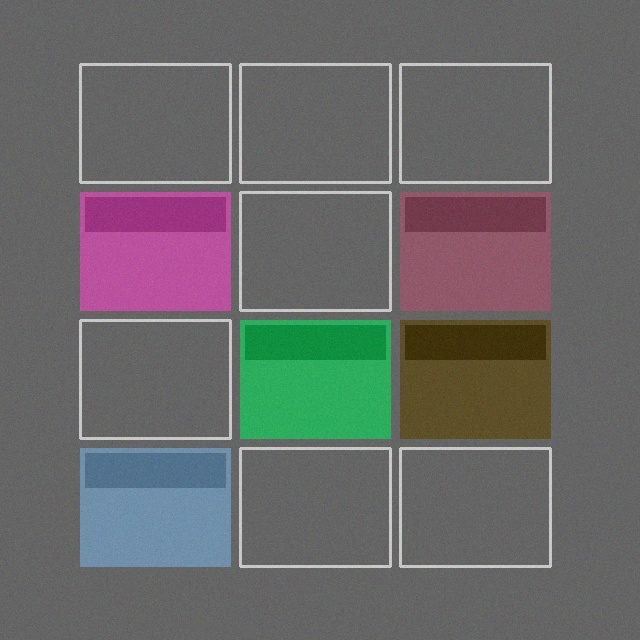space-empty: (80, 64, 230, 182), (240, 64, 390, 182), (400, 64, 550, 182), (240, 192, 390, 310), (80, 320, 230, 438), (240, 448, 390, 566), (400, 448, 550, 566)
space-occupied: (80, 192, 230, 310), (400, 192, 550, 310), (240, 320, 390, 438), (400, 320, 550, 438), (80, 448, 230, 566)
